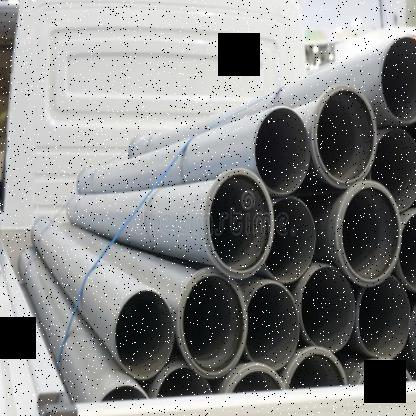pipe: (202, 169, 275, 278), (177, 268, 248, 378), (336, 180, 402, 286), (311, 84, 378, 188), (115, 289, 174, 379), (254, 107, 310, 195), (244, 283, 300, 370), (301, 266, 356, 352), (264, 197, 316, 283), (358, 276, 410, 358), (369, 129, 416, 212), (380, 34, 416, 123), (284, 346, 348, 386), (224, 364, 286, 395), (155, 366, 212, 398), (398, 210, 416, 292), (357, 359, 412, 384)
